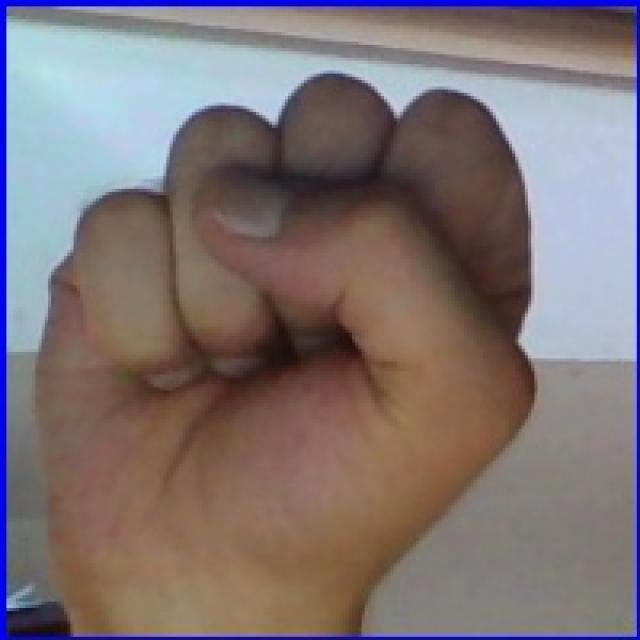Letra-S: (23, 33, 566, 590)
